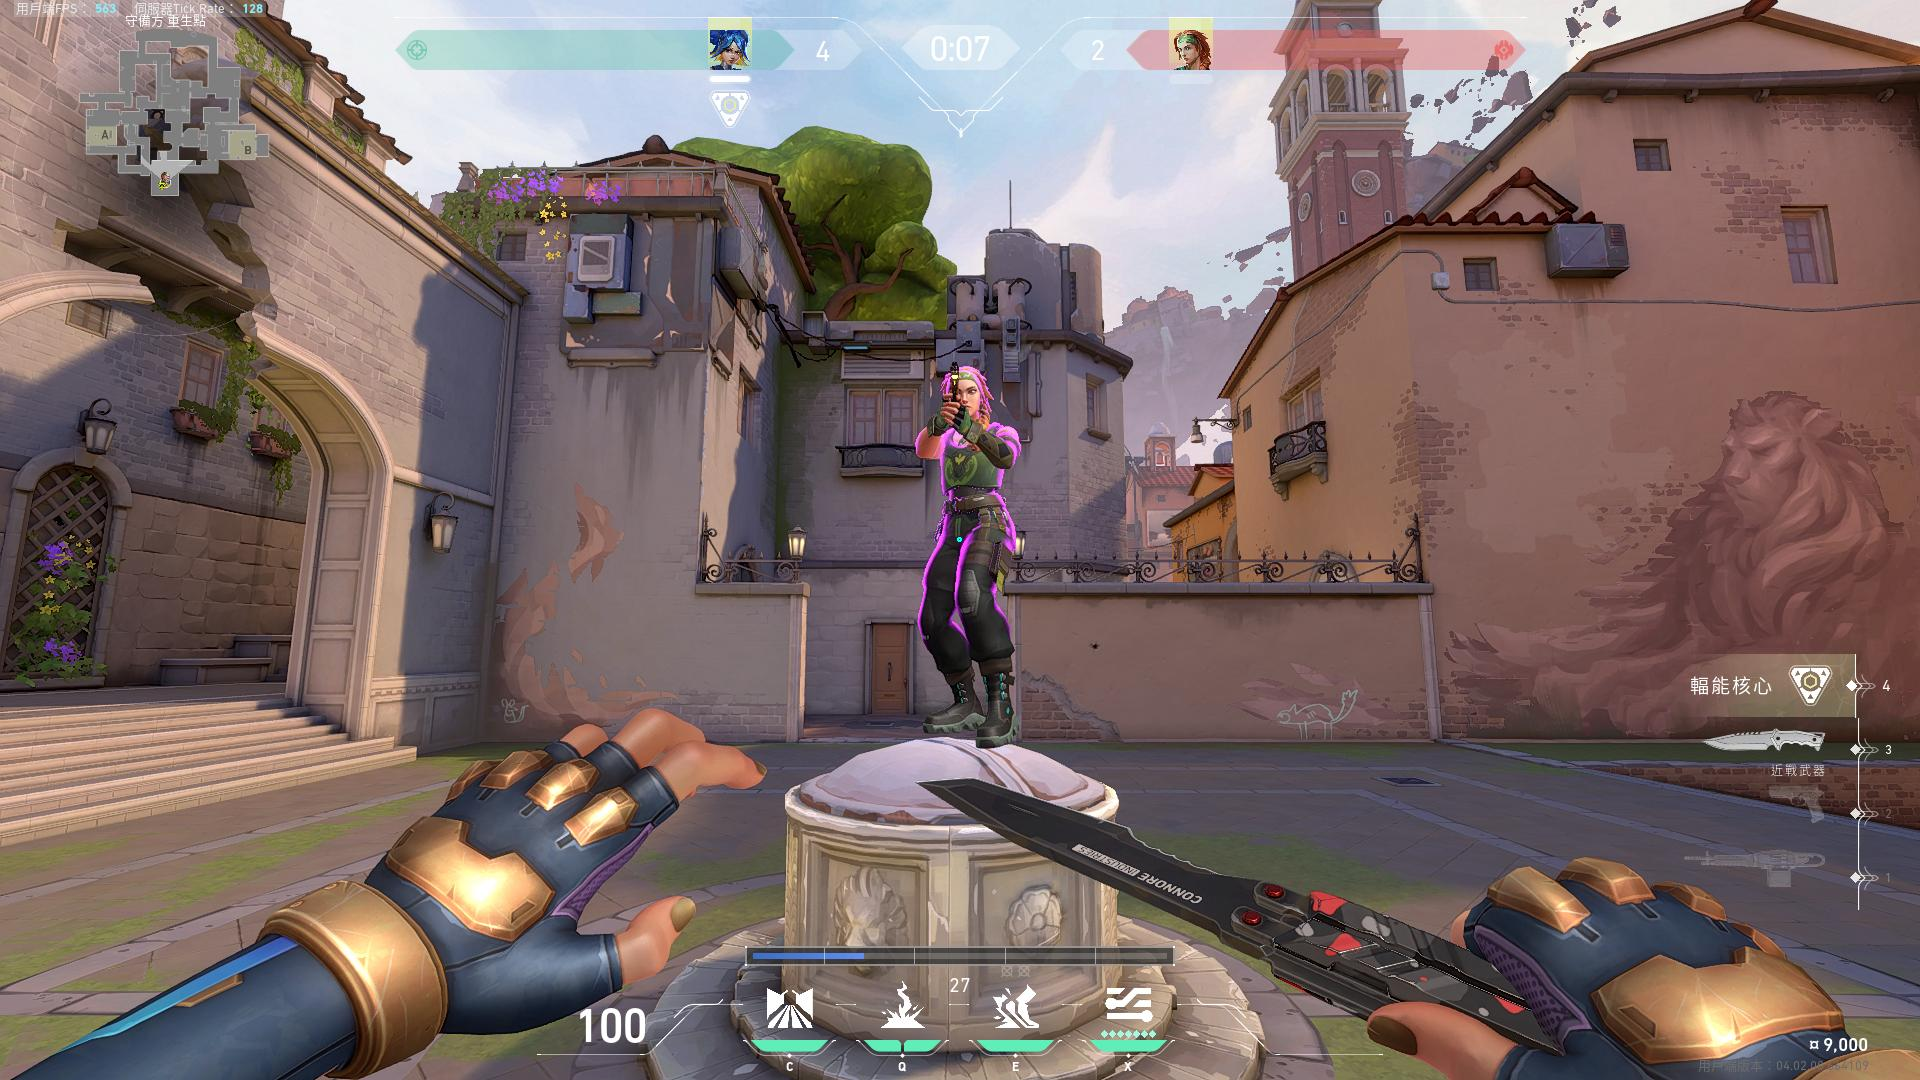enemyHead: (936, 426, 1021, 568), (942, 368, 1000, 415)
